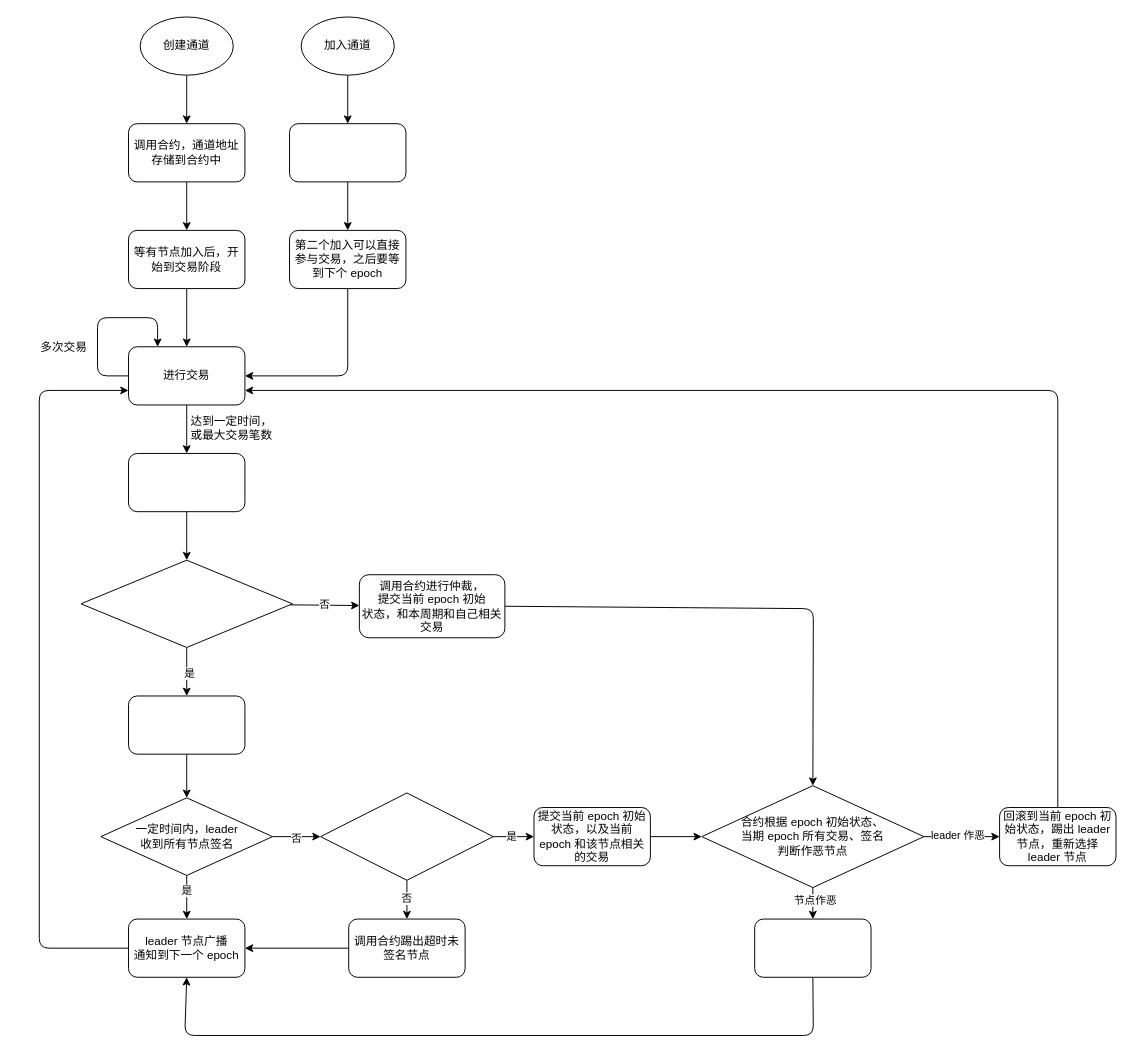
Image size: 1133x1060. Some labels were removed from this diagram. The centre of each missing label's shape, as x and y in pixels:
"leader 节点计算下一轮 epoch 初始状态，并进行广播" goes at point (186, 482).
"其他节点收到后，确定 自己的状态是否正确" goes at point (186, 603).
"调用合约，同意 leader 共识，踢出作恶节点" goes at point (812, 947).
"调用合约，查看是否 有节点进行仲裁" goes at point (406, 836).
"调用合约，查询通道，加入通道" goes at point (347, 152).
"进行签名，并返回给 leader" goes at point (186, 724).
